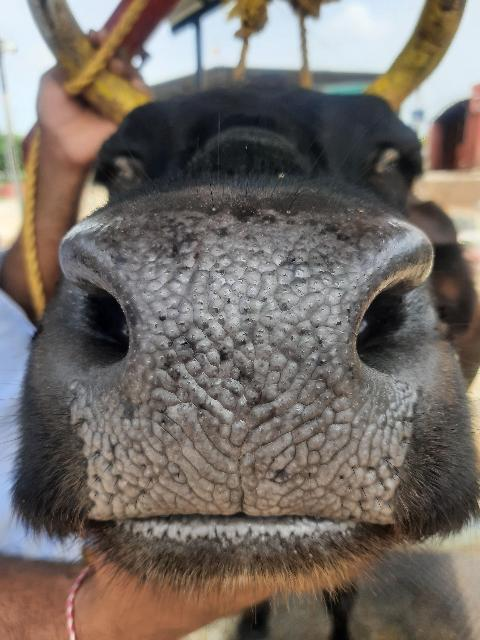Muzzle: (96, 227, 378, 515)
